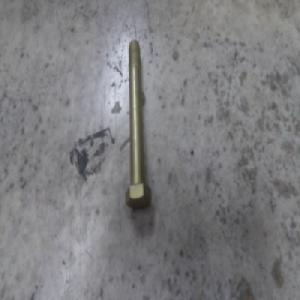Bolt: (125, 39, 151, 204)
